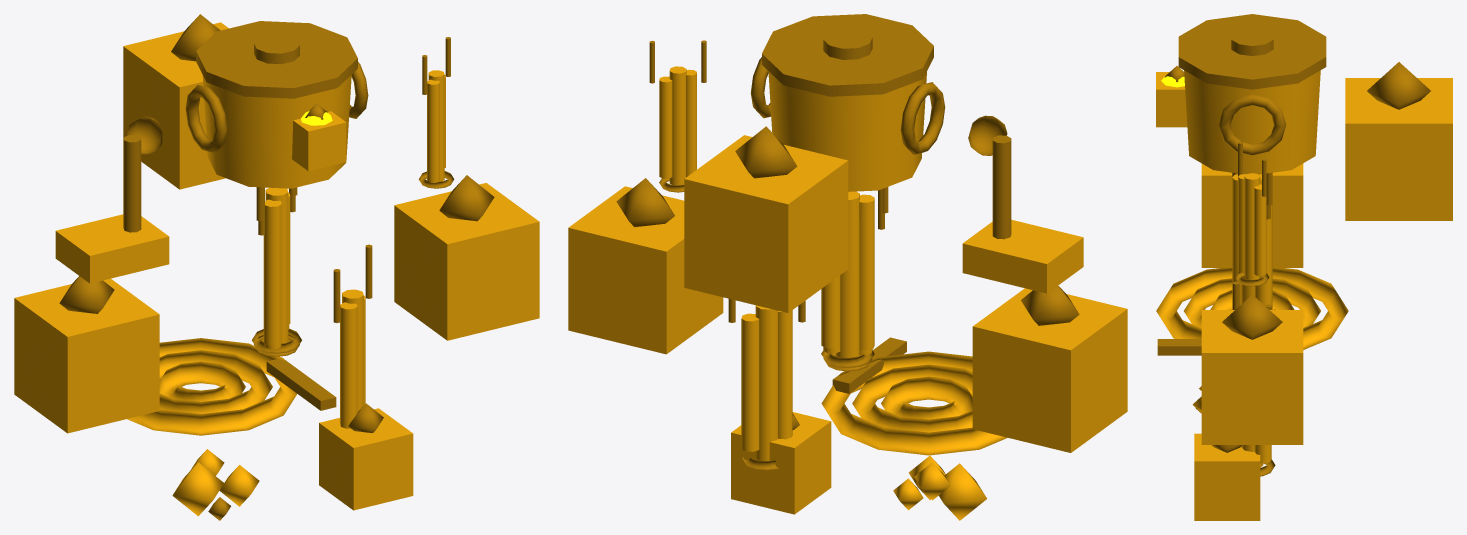
The model's file is golem_033.glb.
3 views of the same model, side by side, from view 1: azimuth 30°, elevation 25°; view 2: azimuth 150°, elevation 25°; view 3: azimuth 270°, elevation 25° (orthographic). The views are drawn at different scales.
Visible parts, largest first — view 1: Body, Detail; view 2: Body, Detail; view 3: Body, Detail.
Boxes of the visible parts, x1,y1,x2,y2 form: Body: [14, 22, 539, 516]; Detail: [59, 14, 494, 520]; Body: [568, 66, 1127, 520]; Detail: [616, 14, 1079, 470]; Body: [1156, 70, 1452, 520]; Detail: [1157, 14, 1430, 476].
Bounding box in the file's own units: 1.12 × 1.03 × 0.6377.
